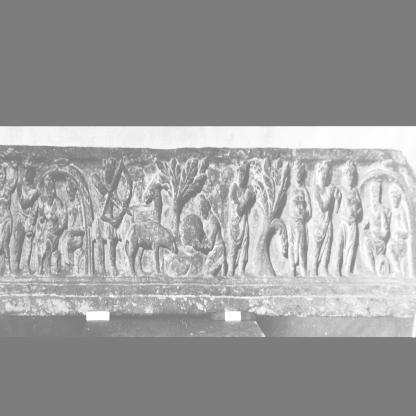buddha-sitting: (359, 173, 391, 275)
